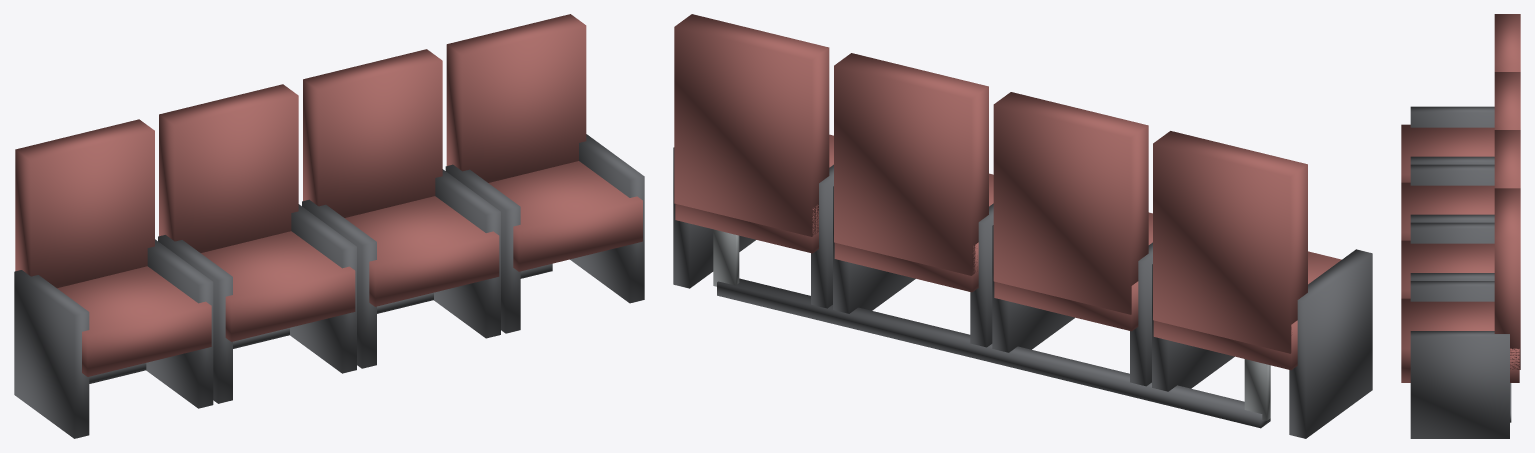
Rendered from theater_seat_row__reinforced.glb.
3 renders of one model, left to right at view 1: azimuth 30°, elevation 25°; view 2: azimuth 150°, elevation 25°; view 3: azimuth 270°, elevation 25°, orthographic. The views are drawn at different scales.
Visible parts, largest first — view 1: world; view 2: world; view 3: world.
Part boxes in pixels (x1,y1,x2,y2): world: (14,14,644,438); world: (673,14,1372,438); world: (1401,14,1520,438).
Bounding box in the file's own units: 2.37 × 0.9486 × 0.5202.
